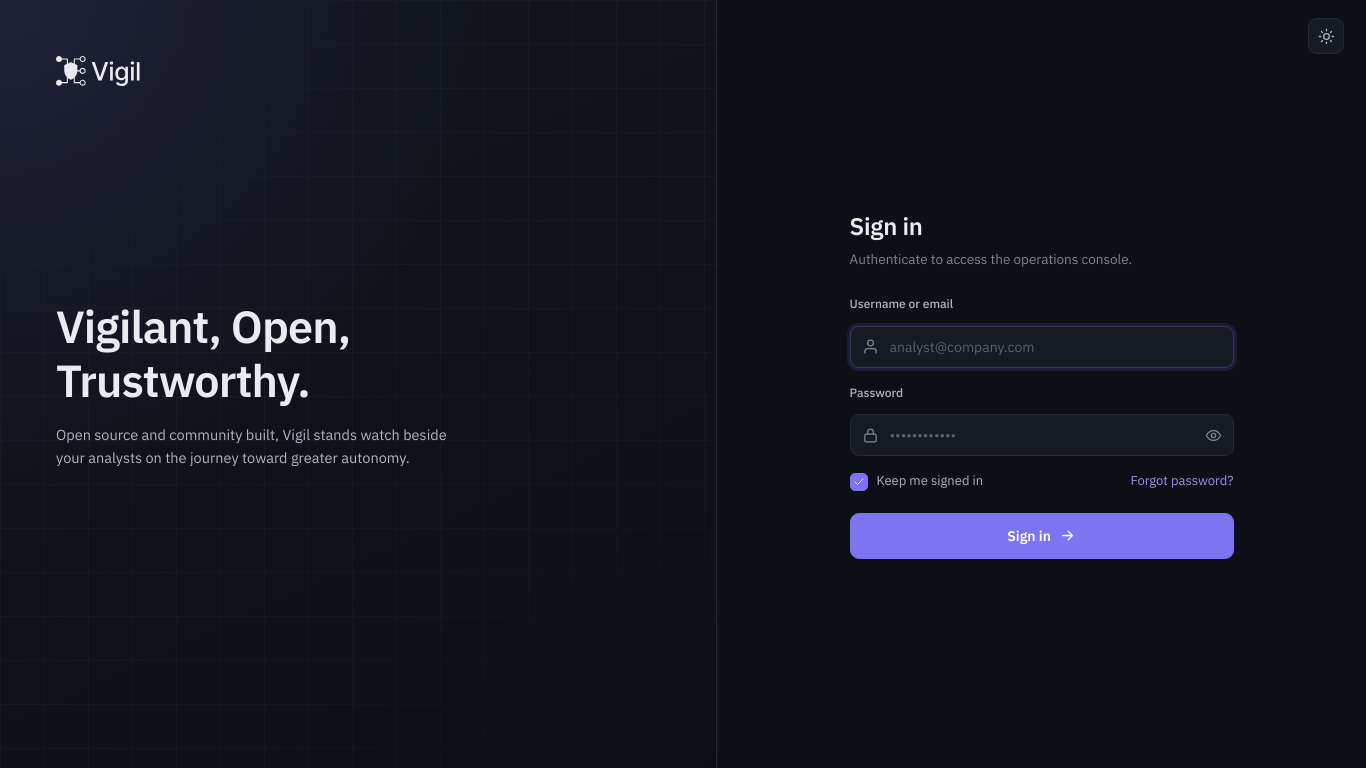
Test: LoginScreen › reveals the MFA step when the backend requires it
Step 1. Type "admin" into the field labelled "Username or email" → coordinates (1042, 347), box [850, 326, 1234, 368]
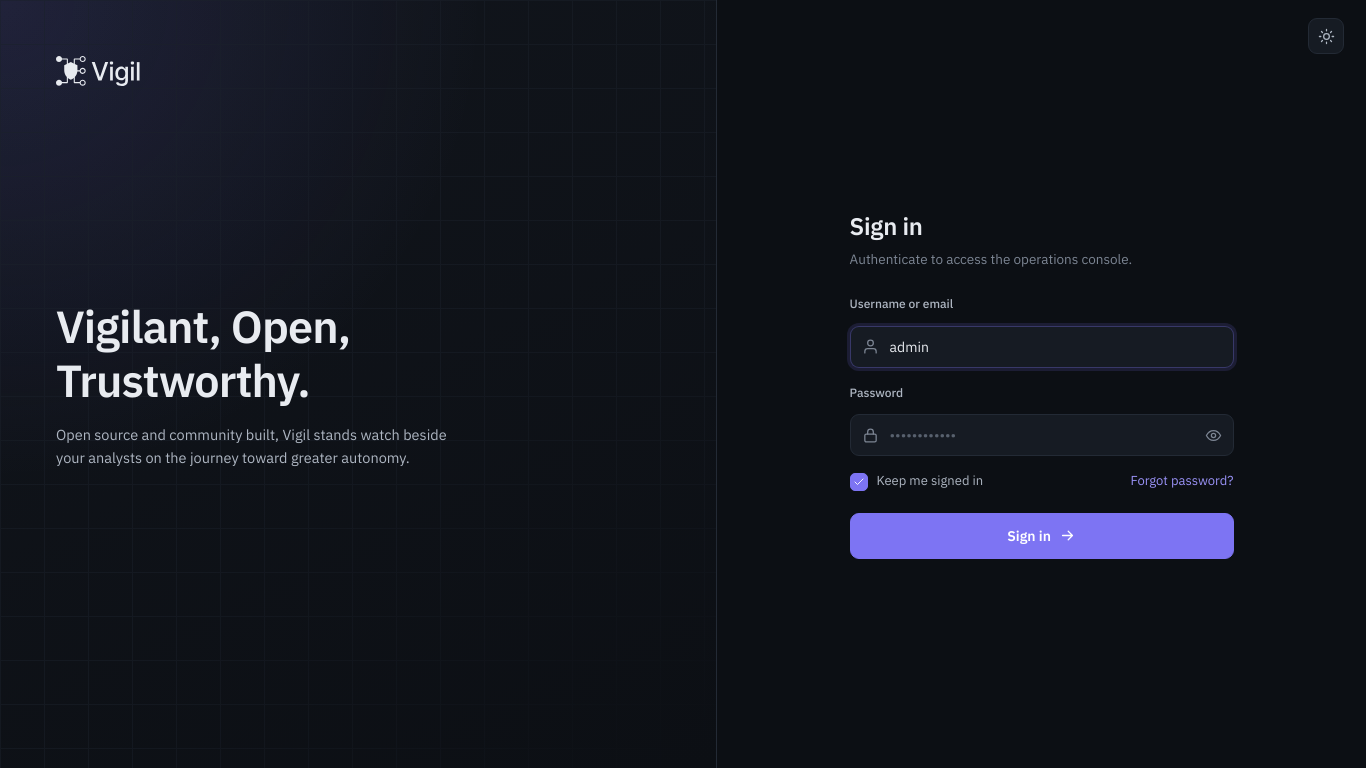
Step 2. Type "admin123" into the password field labelled "Password" → coordinates (1042, 435), box [850, 414, 1234, 456]
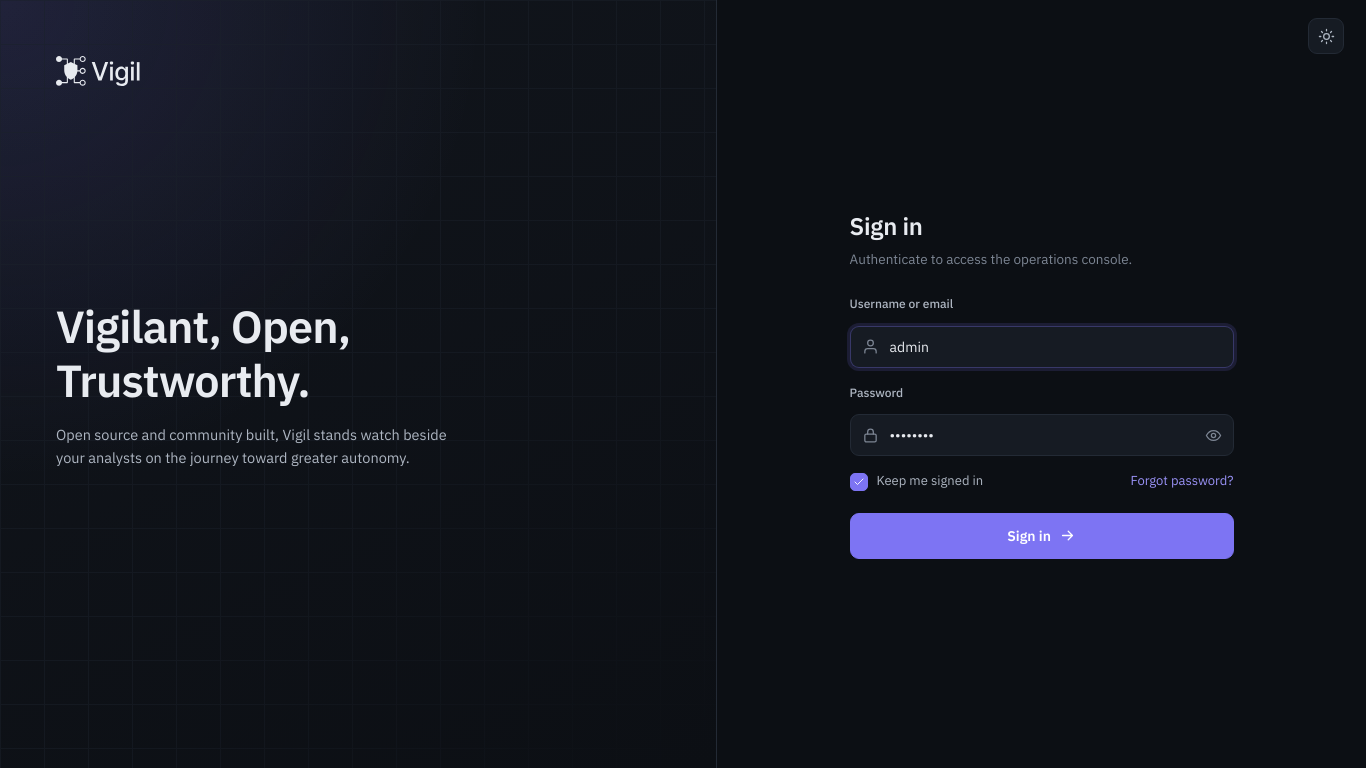
Step 3. Click the button "Sign in" → coordinates (1042, 536), box [850, 513, 1234, 559]
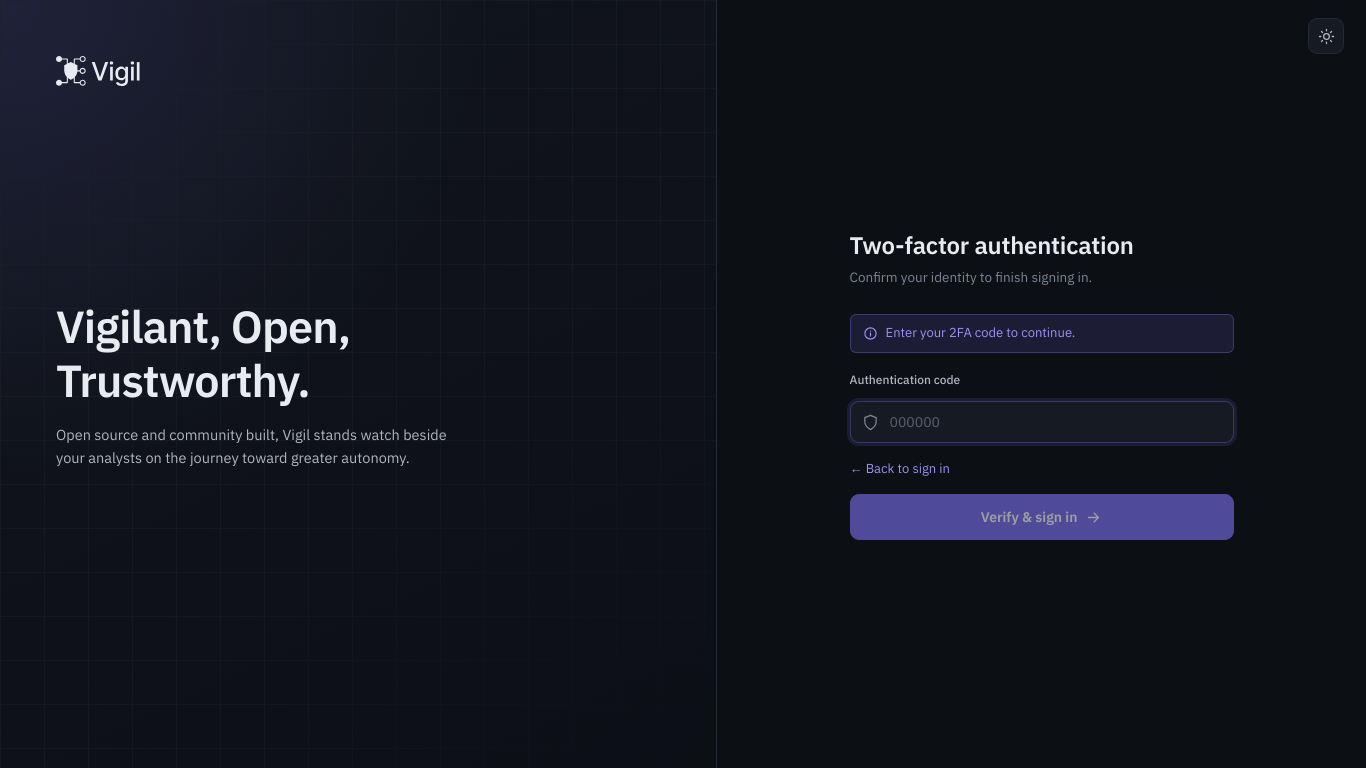
Expected: the heading "Two-factor authentication" is shown, [850, 228, 1134, 260]
Expected: the field labelled "Authentication code" is shown, [850, 401, 1234, 443]
